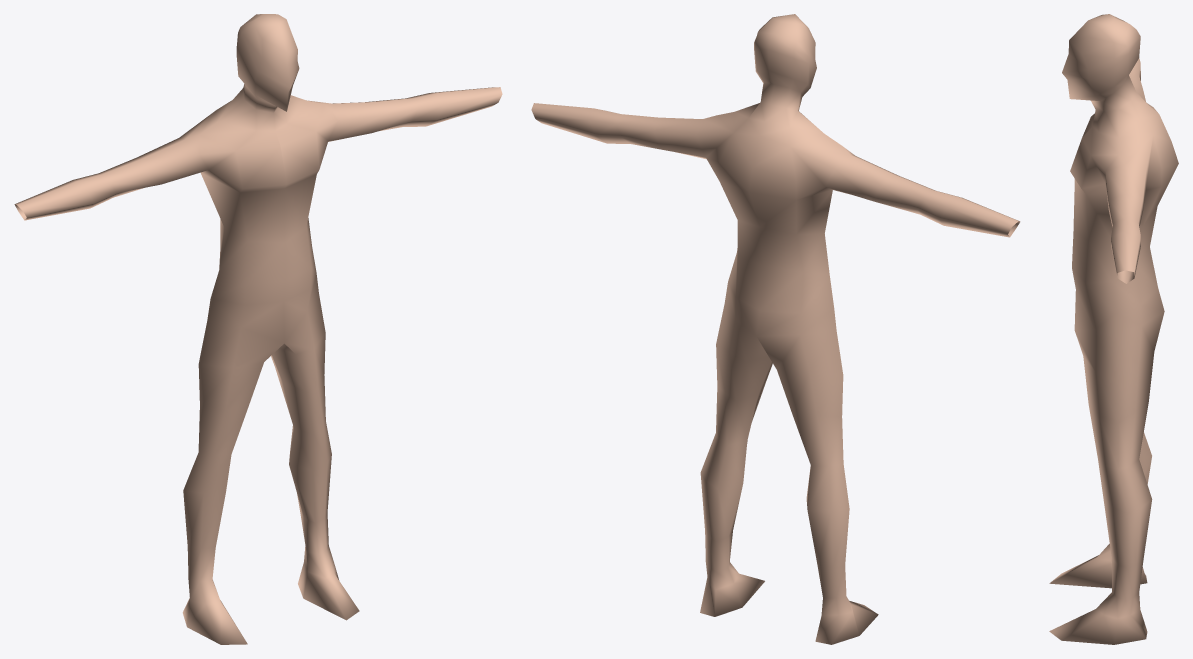
File: PersonaBeta.fbx
3 renders of one model, left to right at view 1: azimuth 30°, elevation 25°; view 2: azimuth 150°, elevation 25°; view 3: azimuth 270°, elevation 25°, orthographic.
Visible parts, largest first — view 1: CuerpoEnteroCopia; view 2: CuerpoEnteroCopia; view 3: CuerpoEnteroCopia.
Part boxes in pixels (x1,y1,x2,y2): CuerpoEnteroCopia: [14, 14, 502, 644]; CuerpoEnteroCopia: [531, 14, 1020, 644]; CuerpoEnteroCopia: [1049, 14, 1178, 644].
Size of the model in its own units: 177 by 207 by 41.47.
